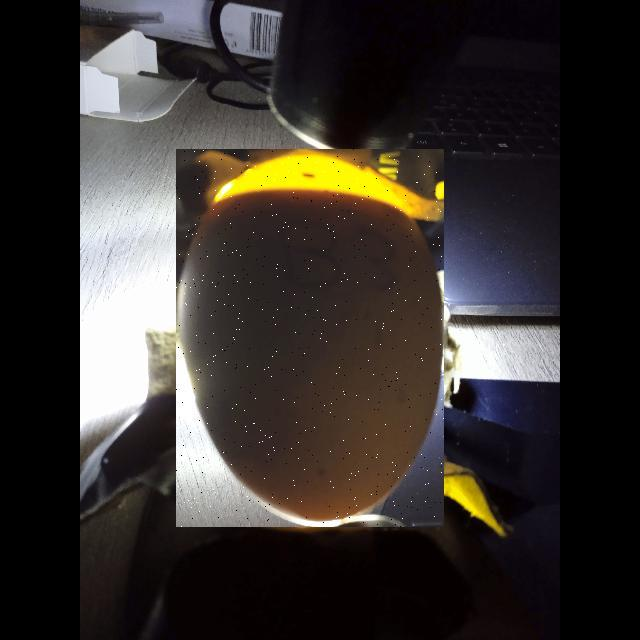Fertile: (176, 149, 444, 527)
